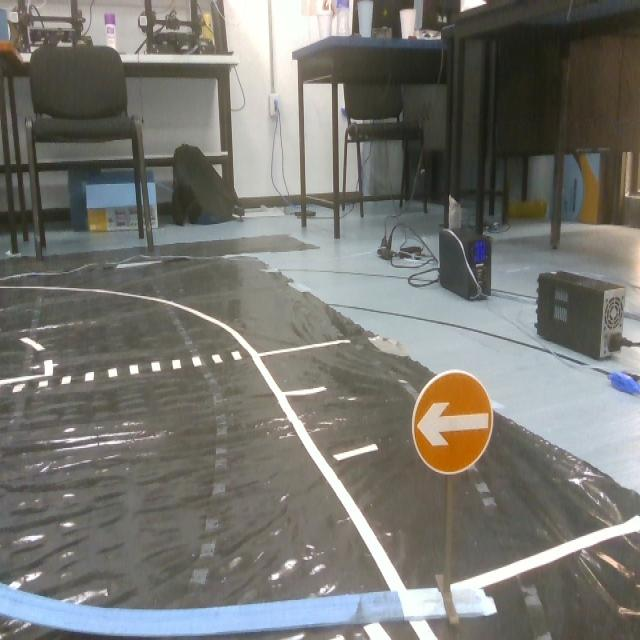forward: (413, 363, 493, 473)
